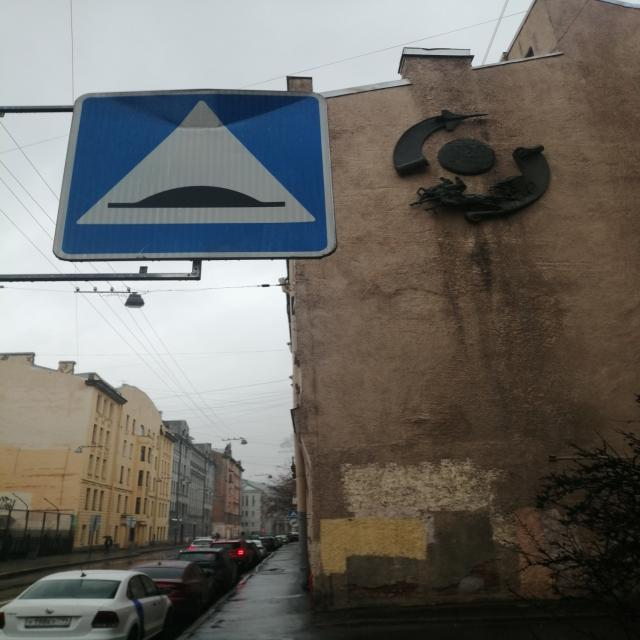road sign: (55, 92, 335, 257)
